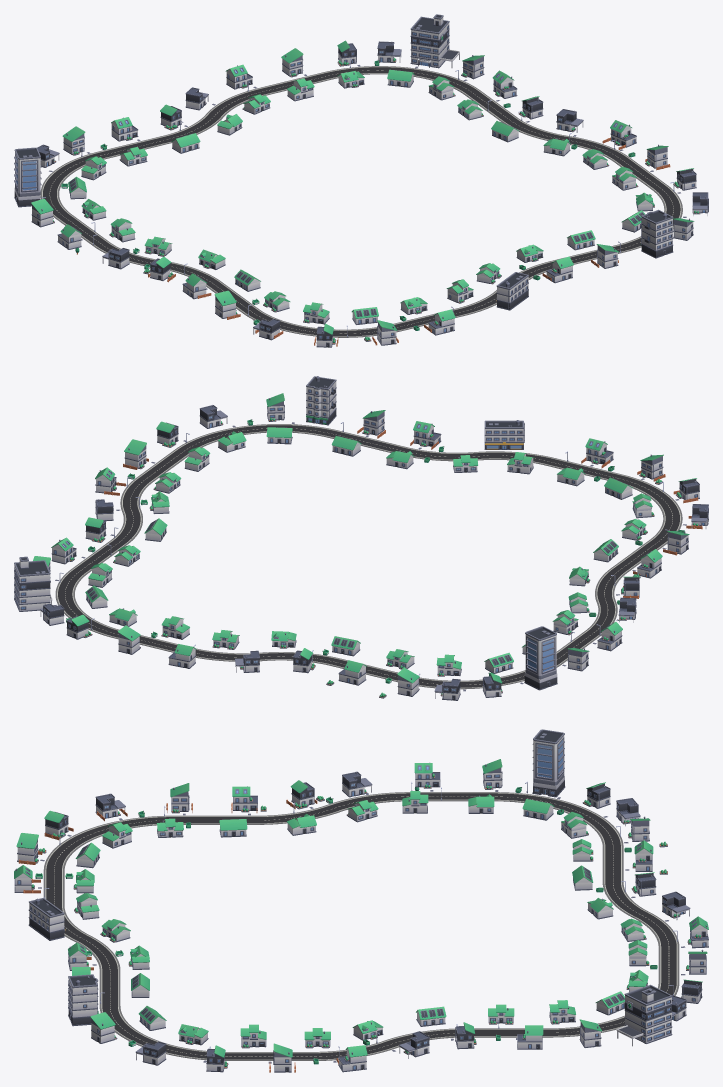
Rendered from XB_Circuito_Vestido.glb.
3 renders of one model, top to bottom at view 1: azimuth 30°, elevation 25°; view 2: azimuth 150°, elevation 25°; view 3: azimuth 270°, elevation 25°, orthographic. The views are drawn at different scales.
Parts seen in each view (by area): view 1: building-n, building-skyscraper-a, building-l, building-k, XB_C_Casa_o_29, XB_C_Casa_o_2, XB_C_Casa_k_17, XB_C_Casa_k_14, XB_C_Casa_o_5, XB_C_Casa_o_26; view 2: building-skyscraper-a, building-n, building-l, building-k, XB_C_Casa_o_5, XB_C_Casa_o_2, XB_C_Casa_k_30, XB_C_Casa_k_22, XB_C_Casa_o_13, XB_C_Casa_o_10, XB_C_Casa_o_18, XB_C_Casa_o_21 (+3 smaller); view 3: building-n, building-skyscraper-a, building-l, building-k, XB_C_Casa_k_33, XB_C_Casa_o_29, XB_C_Casa_c_7, XB_C_Casa_o_13, XB_C_Casa_k_6, XB_C_Casa_o_10, XB_C_Casa_o_26, XB_C_Casa_q_12 (+15 smaller).
Part boxes in pixels (x1,y1,x2,y2): building-n: [410, 14, 459, 68]; building-skyscraper-a: [14, 147, 41, 207]; building-l: [640, 209, 673, 258]; building-k: [496, 272, 528, 310]; XB_C_Casa_o_29: [610, 120, 636, 147]; XB_C_Casa_o_2: [546, 256, 573, 283]; XB_C_Casa_k_17: [62, 126, 85, 155]; XB_C_Casa_k_14: [31, 198, 54, 227]; XB_C_Casa_o_5: [428, 309, 455, 335]; XB_C_Casa_o_26: [492, 70, 517, 98]; building-skyscraper-a: [524, 626, 557, 690]; building-n: [14, 556, 52, 611]; building-l: [306, 376, 336, 425]; building-k: [484, 420, 524, 449]; XB_C_Casa_o_5: [585, 438, 613, 464]; XB_C_Casa_o_2: [413, 421, 441, 446]; XB_C_Casa_k_30: [124, 439, 146, 469]; XB_C_Casa_k_22: [117, 625, 140, 654]; XB_C_Casa_o_13: [597, 622, 622, 651]; XB_C_Casa_o_10: [637, 549, 662, 578]; XB_C_Casa_o_18: [338, 660, 366, 685]; XB_C_Casa_o_21: [168, 644, 196, 668]; building-n: [616, 984, 672, 1046]; building-skyscraper-a: [532, 729, 565, 797]; building-l: [68, 974, 98, 1026]; building-k: [28, 897, 65, 940]; XB_C_Casa_k_33: [90, 1012, 117, 1043]; XB_C_Casa_o_29: [338, 1045, 367, 1072]; XB_C_Casa_c_7: [102, 822, 132, 848]; XB_C_Casa_o_13: [414, 762, 440, 788]; XB_C_Casa_k_6: [16, 833, 38, 863]; XB_C_Casa_o_10: [232, 786, 257, 812]; XB_C_Casa_o_26: [517, 1025, 543, 1049]; XB_C_Casa_q_12: [342, 771, 372, 797].
Size of the model in its own units: 266 by 26.39 by 267.
Materials: 7 (3 with a texture image).
